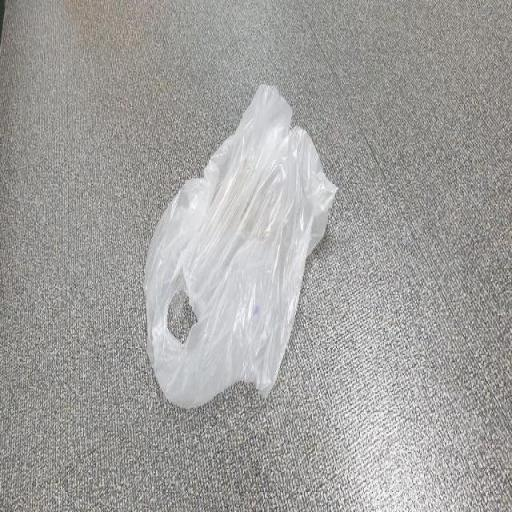plastic-bag: (144, 81, 342, 410)
